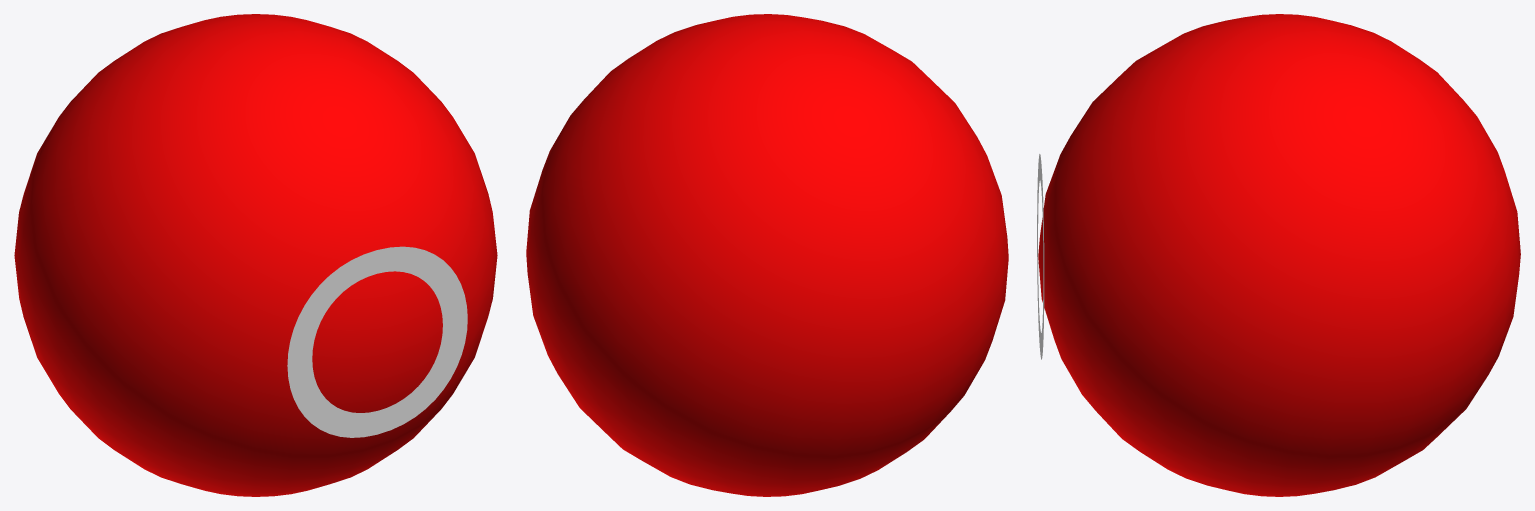
3 renders of one model, left to right at view 1: azimuth 30°, elevation 25°; view 2: azimuth 150°, elevation 25°; view 3: azimuth 270°, elevation 25°, orthographic.
Visible parts, largest first — view 1: 구체, 텍스트; view 2: 구체; view 3: 구체, 텍스트.
Part boxes in pixels (x1,y1,x2,y2): 구체: (14, 14, 497, 496); 텍스트: (287, 246, 467, 437); 구체: (526, 14, 1008, 496); 구체: (1038, 14, 1520, 496); 텍스트: (1037, 154, 1044, 359).
Bounding box in the file's own units: 250 × 250 × 250.
